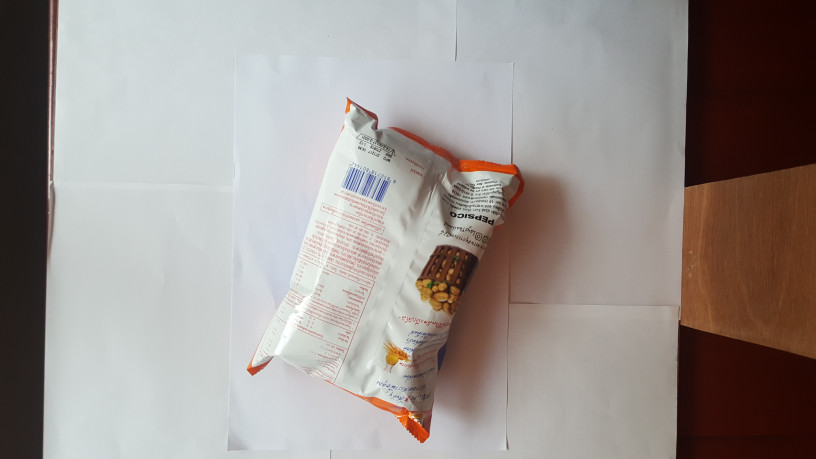lays-bbq: (242, 100, 527, 449)
